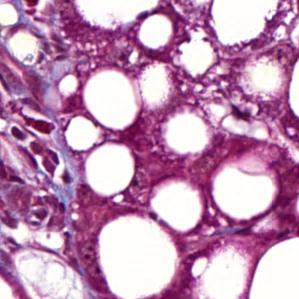steatosis: (80, 147, 137, 196), (137, 15, 174, 50)
